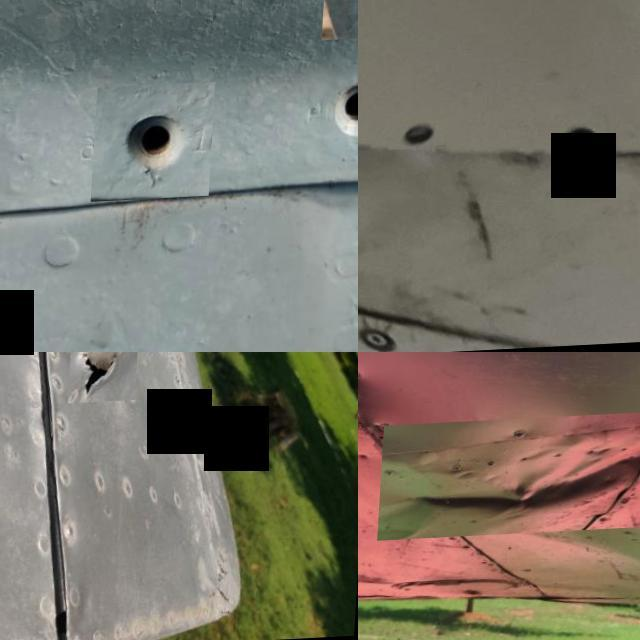Crack: (72, 352, 142, 407)
Dent: (382, 414, 640, 541)
Missing_Fastener: (96, 85, 220, 204), (294, 55, 358, 173), (562, 122, 608, 160), (393, 124, 452, 153)
